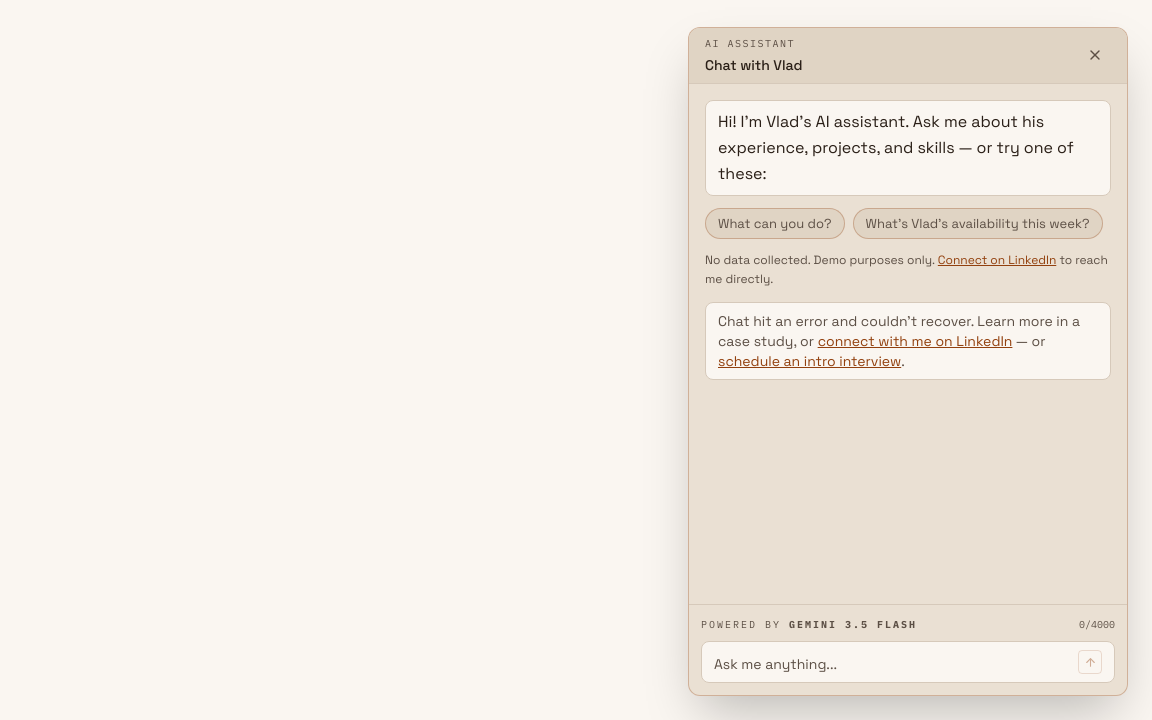
ChatDrawer › loads the scheduler inline when the schedule button is clicked in error state
What coordinates should you click on to do the following:
click the button "schedule an intro interview"
I would click on:
 (810, 361)
Its box is [718,351,901,371].
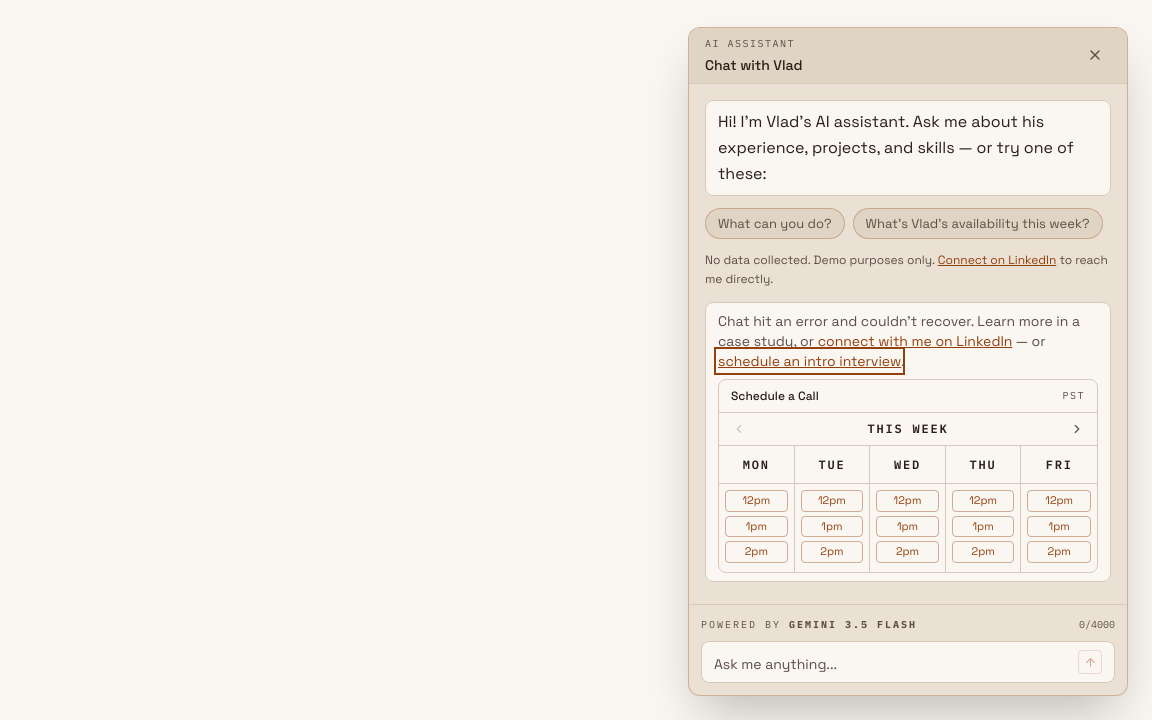
Expected: the text "Schedule a Call" is shown, [731,388,819,404]
